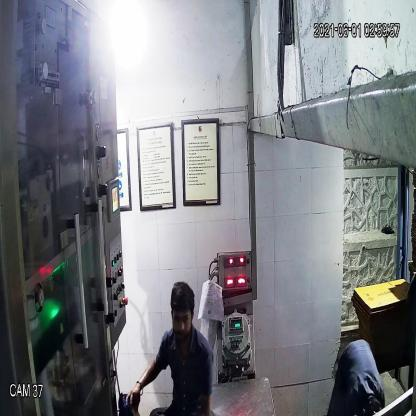no_goggles: (169, 307, 194, 327)
